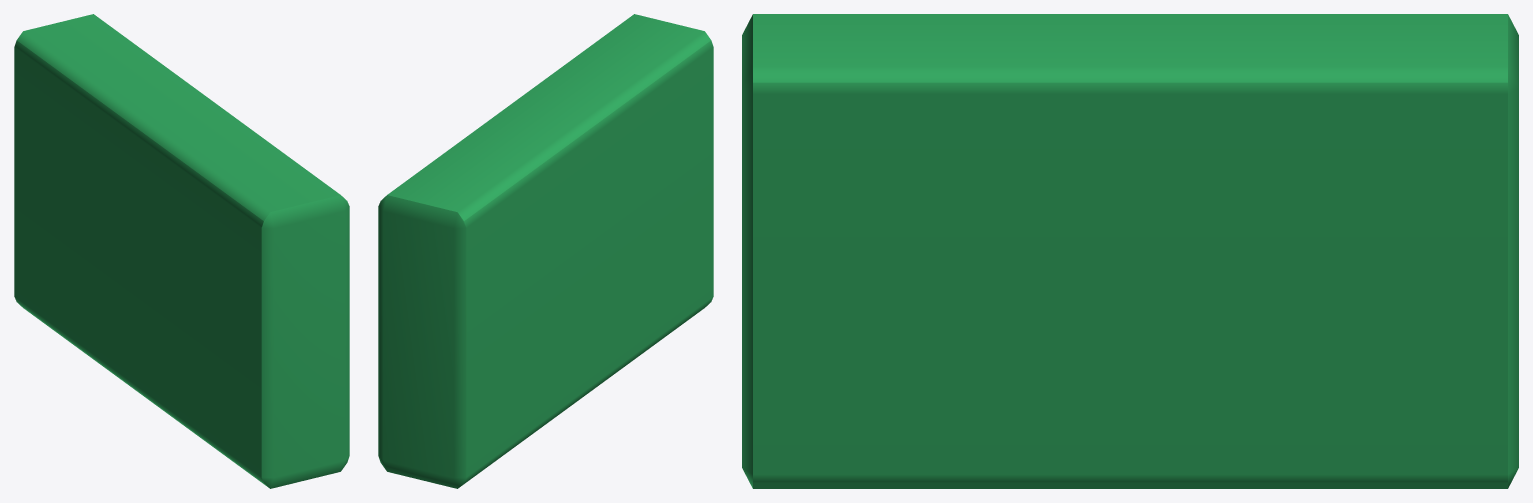
The model's file is Prop_Hedge_Mod_01.fbx.
The picture shows the model from 3 angles, left to right: view 1: azimuth 30°, elevation 25°; view 2: azimuth 150°, elevation 25°; view 3: azimuth 270°, elevation 25°; orthographic projection. The views are drawn at different scales.
Visible parts, largest first — view 1: Hedge; view 2: Hedge; view 3: Hedge.
Part boxes in pixels (bbox=[...]): Hedge: bbox=[14, 14, 349, 488]; Hedge: bbox=[378, 14, 713, 488]; Hedge: bbox=[742, 14, 1518, 488].
Size of the model in its own units: 1 by 3 by 5.
